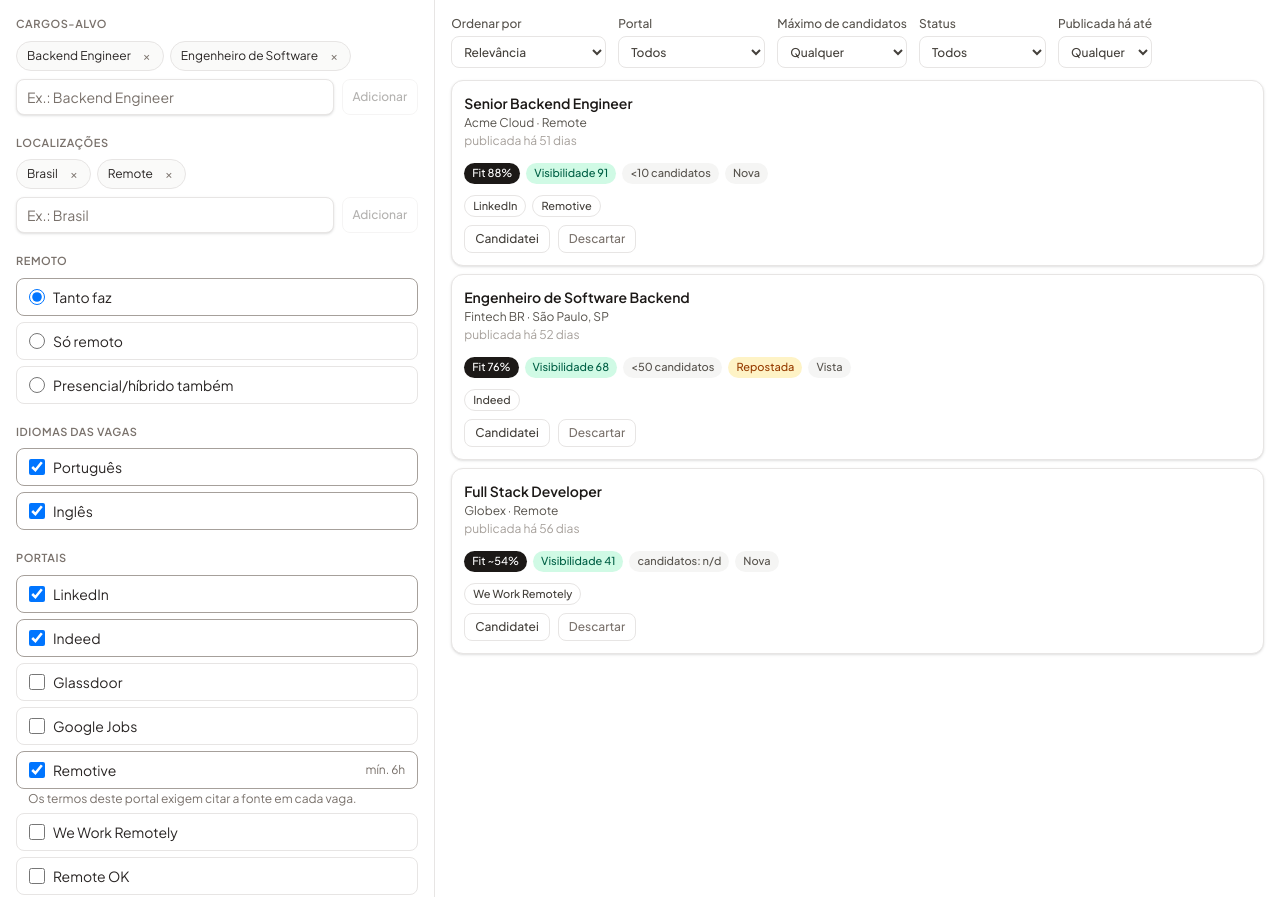
Test: JobsShell › filters the list by status, lifting the dismissed default when asked for them
Expected: the heading "PHP Developer" is not shown
Select "Descartadas" in the dropdown labelled "Status" at (982, 52), box [919,36,1046,68]
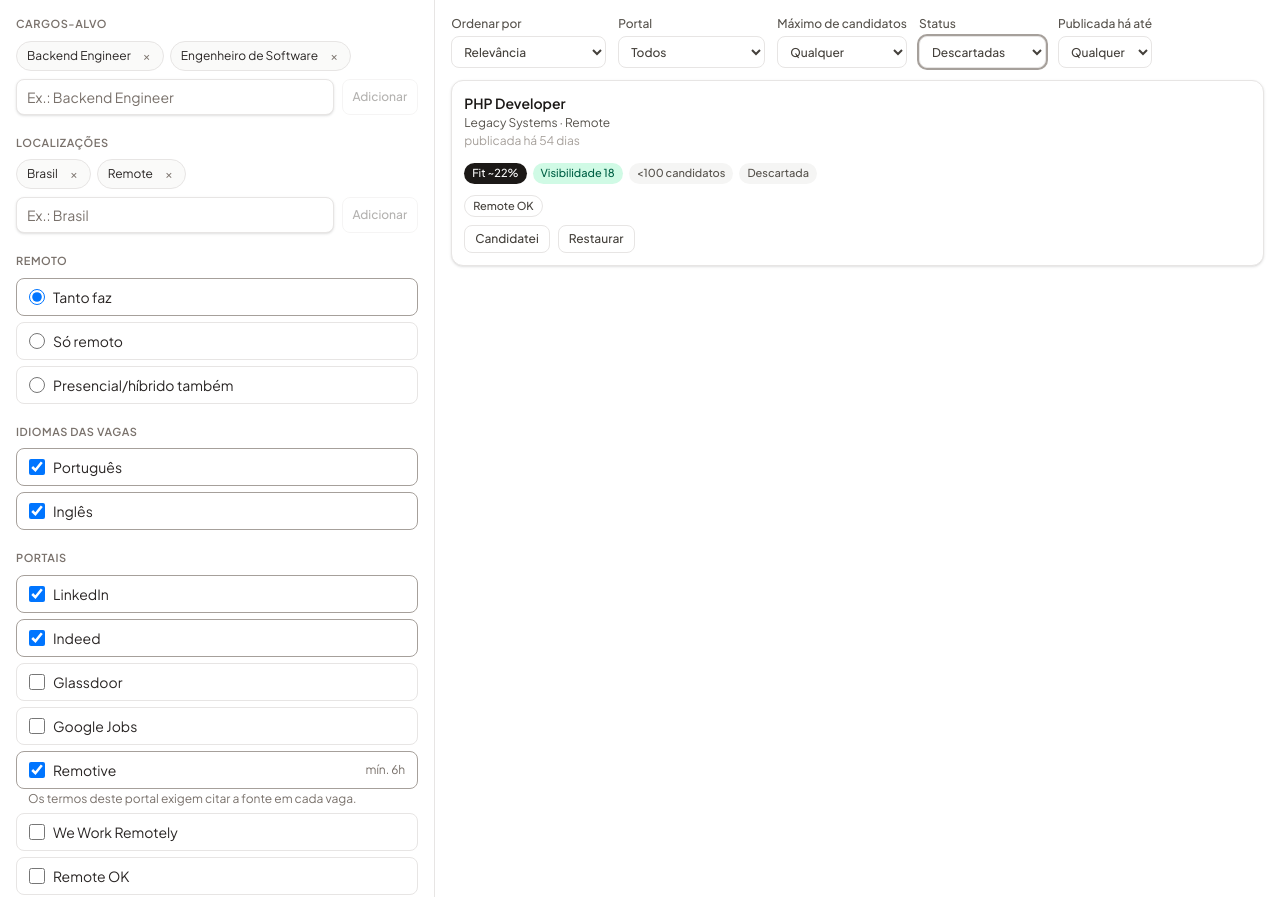
Result: the heading "PHP Developer" is shown at [464,94,566,112]
Result: the button "Senior Backend Engineer" is gone
